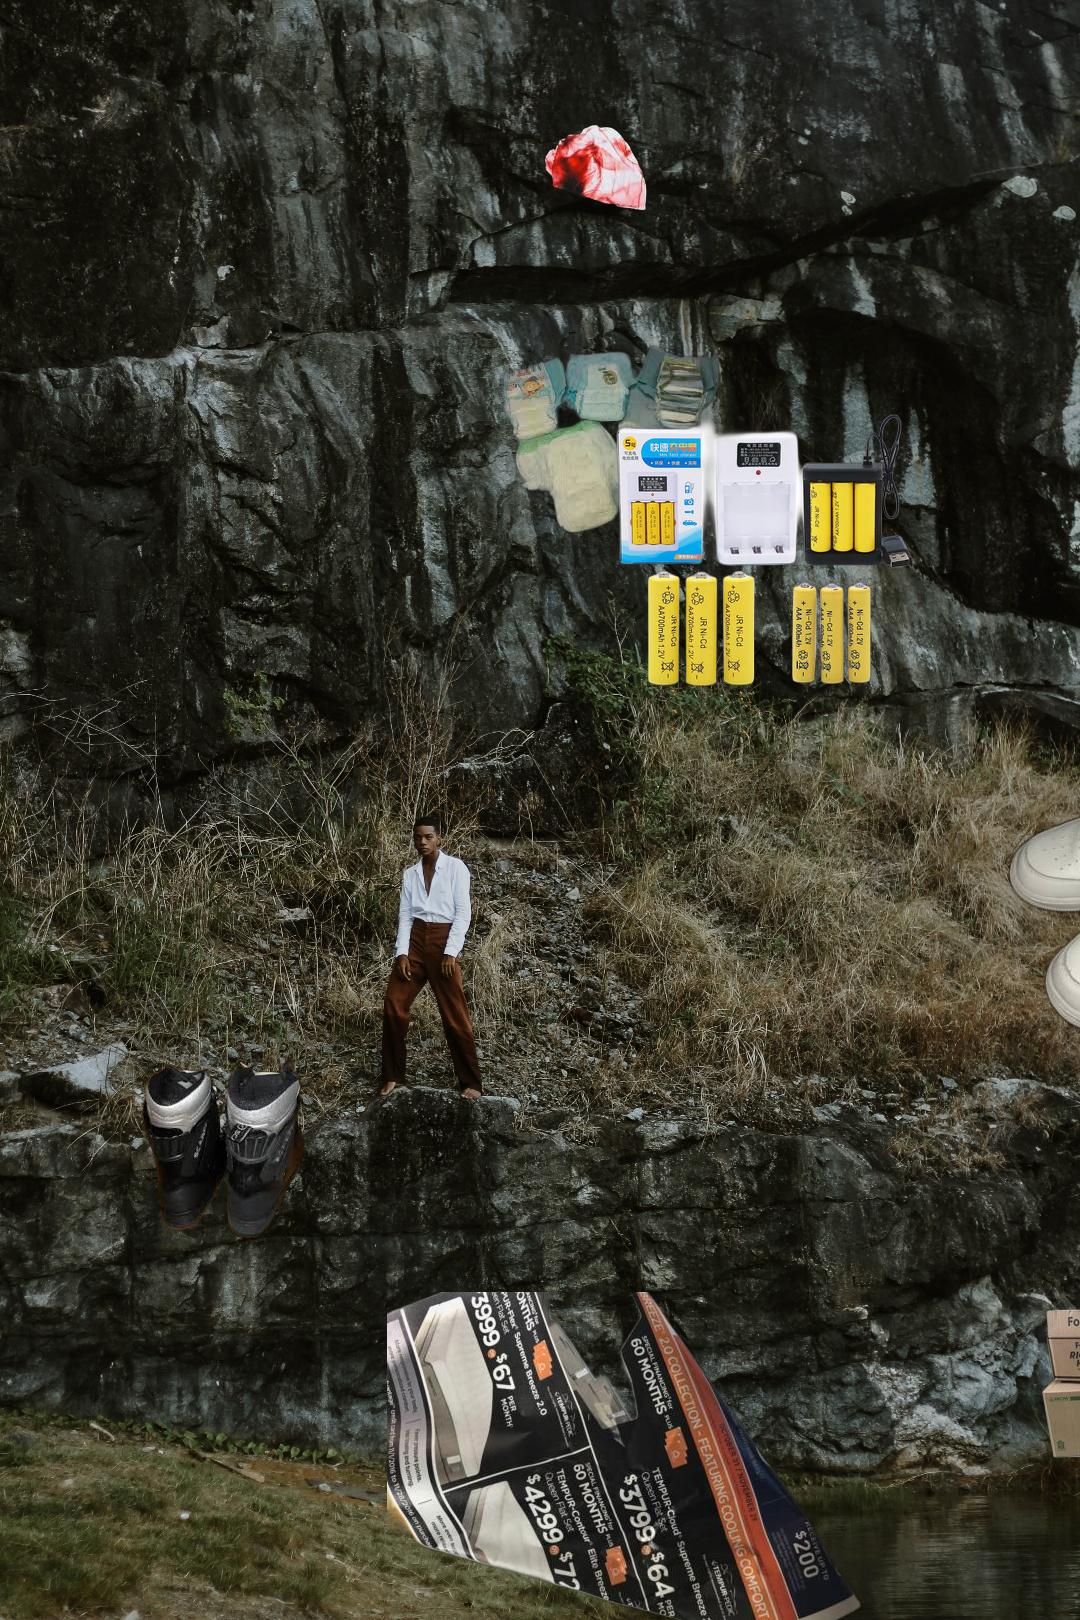battery: (607, 403, 912, 689)
paper: (387, 1292, 865, 1620)
plastic-bag: (542, 123, 648, 212)
shoes: (140, 1057, 307, 1242), (1005, 708, 1080, 1038)
trash: (495, 344, 721, 538)
trashbox-cardboard: (1039, 1248, 1080, 1460)
